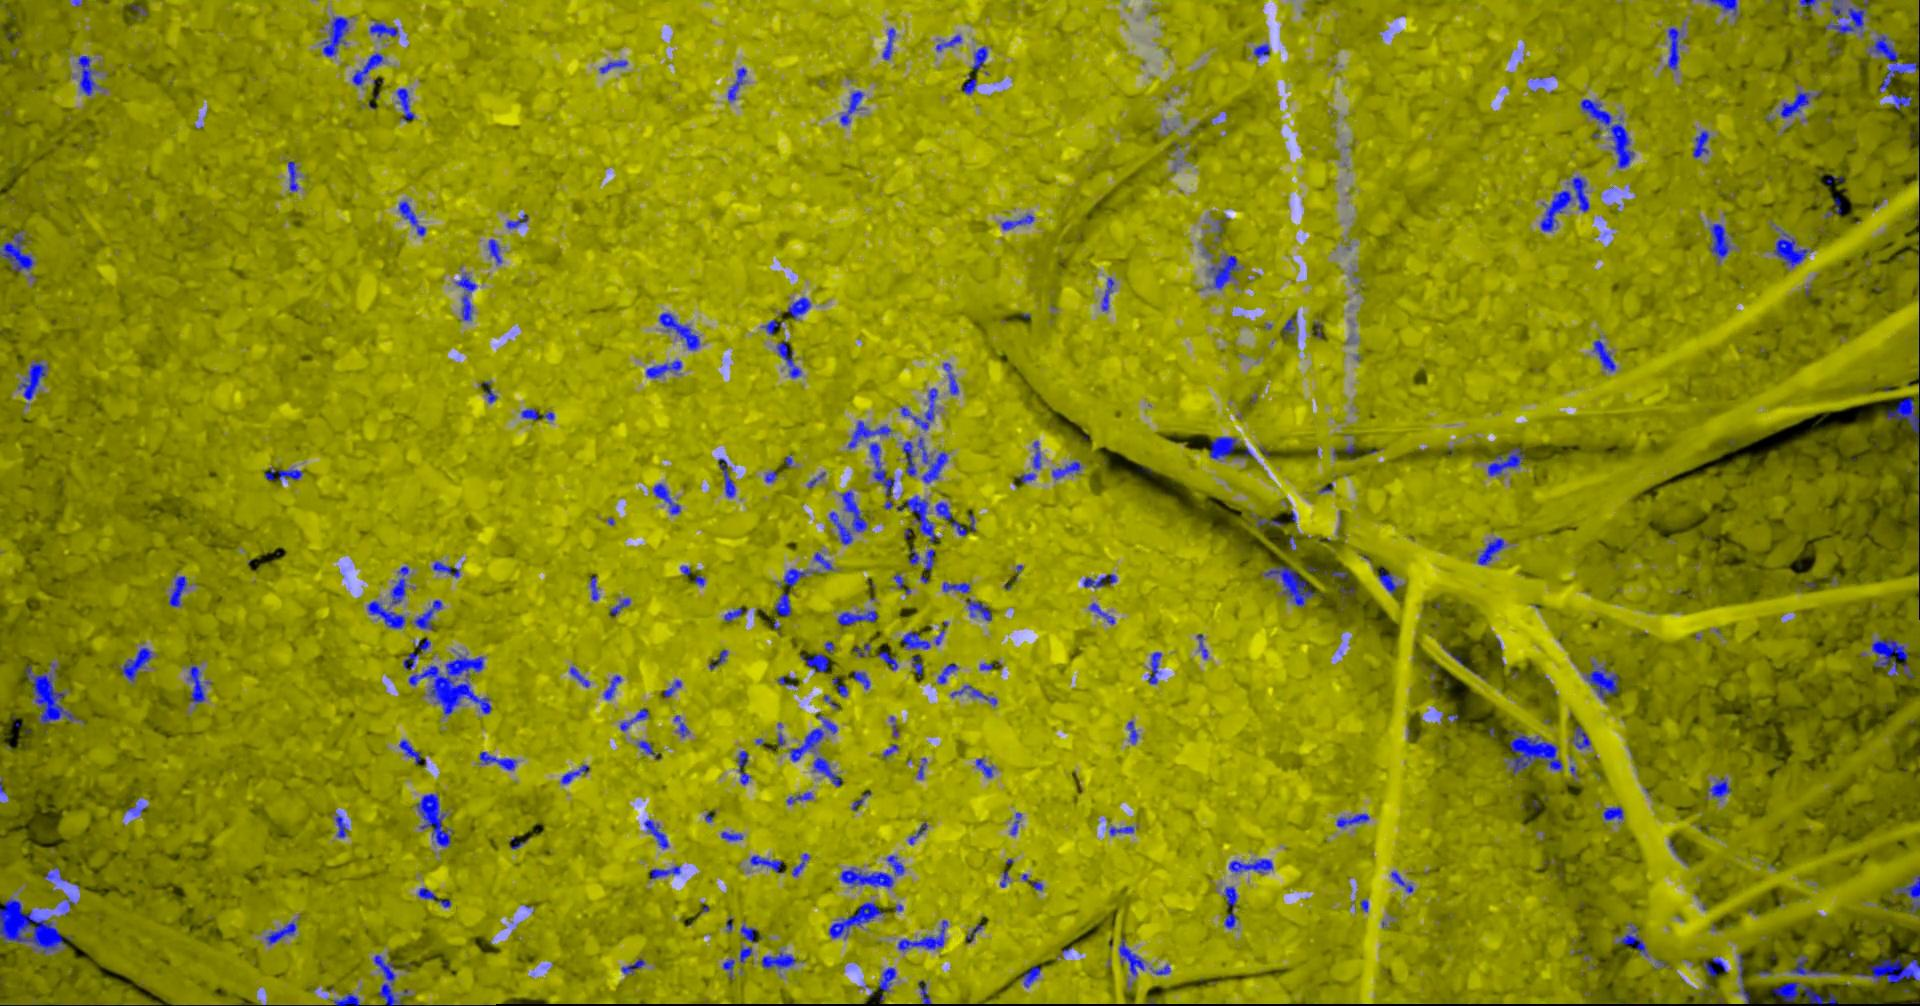ant: (1580, 98, 1634, 168), (1870, 34, 1919, 91), (1539, 177, 1589, 231), (789, 713, 837, 761), (1263, 565, 1314, 606), (828, 901, 883, 937), (829, 490, 866, 544), (417, 793, 452, 846), (897, 495, 936, 542), (1870, 636, 1912, 678), (1771, 981, 1839, 1005), (897, 920, 947, 951), (658, 312, 698, 351), (900, 387, 937, 429), (373, 954, 403, 1005), (1773, 231, 1812, 267), (1823, 0, 1864, 34), (1884, 392, 1919, 433), (917, 437, 947, 481), (869, 442, 894, 495), (1868, 956, 1919, 983), (0, 230, 33, 271), (1586, 661, 1619, 700), (847, 420, 891, 448), (17, 359, 47, 399), (1209, 255, 1242, 290), (119, 647, 151, 682), (350, 52, 383, 85), (935, 500, 966, 535), (1015, 441, 1041, 481), (839, 868, 893, 888), (367, 600, 405, 627), (1617, 922, 1647, 956), (1487, 447, 1524, 475), (455, 273, 476, 320), (323, 17, 348, 56), (397, 199, 425, 235), (1789, 953, 1835, 974), (1117, 937, 1143, 976), (651, 481, 681, 514), (776, 340, 801, 377), (76, 55, 99, 95), (950, 685, 996, 705), (1896, 873, 1919, 913), (813, 756, 842, 786), (839, 90, 863, 124), (1708, 224, 1730, 260), (1780, 90, 1810, 117), (1476, 537, 1505, 564), (414, 600, 441, 629), (397, 739, 425, 766), (643, 819, 668, 848), (783, 568, 818, 589), (1592, 339, 1615, 371), (479, 751, 516, 770), (187, 666, 204, 705), (1208, 436, 1238, 459), (618, 708, 649, 730), (265, 921, 296, 944), (645, 359, 681, 379), (717, 459, 735, 497), (390, 567, 408, 605), (1228, 857, 1272, 873), (417, 887, 450, 907), (759, 951, 795, 969), (837, 610, 877, 625), (728, 67, 745, 102), (396, 86, 414, 121), (1377, 568, 1399, 594), (1223, 885, 1237, 929), (877, 967, 895, 1000), (1667, 27, 1681, 69), (560, 763, 589, 782), (786, 296, 810, 319), (966, 597, 990, 620), (749, 855, 782, 871), (168, 575, 185, 606), (1738, 953, 1749, 1005), (1001, 213, 1032, 230), (799, 653, 828, 671), (1691, 130, 1709, 158), (902, 441, 916, 476), (1051, 461, 1079, 479), (902, 631, 930, 649), (1390, 870, 1413, 892), (1090, 602, 1114, 622), (942, 362, 957, 394), (1082, 573, 1116, 587), (737, 749, 750, 784), (1703, 956, 1726, 977), (370, 20, 397, 37), (1336, 813, 1369, 827), (602, 674, 621, 699), (1707, 0, 1736, 15), (935, 34, 961, 51), (432, 560, 458, 577), (936, 663, 957, 683), (569, 666, 589, 687), (907, 822, 927, 843), (264, 469, 302, 480), (1572, 725, 1590, 749), (1707, 779, 1731, 796), (521, 408, 554, 420), (1823, 196, 1843, 217), (791, 854, 809, 876), (883, 27, 895, 58), (1148, 652, 1161, 683), (775, 592, 791, 616), (1101, 277, 1112, 311), (709, 649, 728, 669), (650, 865, 681, 878), (1890, 93, 1911, 111), (1021, 873, 1043, 890), (1022, 965, 1040, 987), (621, 958, 644, 974), (1281, 312, 1297, 337), (44, 866, 69, 882), (877, 650, 897, 669), (813, 553, 833, 570), (886, 855, 904, 875), (599, 60, 627, 72), (488, 239, 502, 264), (971, 46, 987, 69), (610, 598, 629, 616), (830, 677, 848, 696), (662, 680, 681, 697), (975, 758, 993, 777), (965, 923, 983, 942), (334, 813, 348, 837), (637, 741, 658, 757), (505, 213, 528, 227), (331, 993, 359, 1005), (739, 923, 756, 942), (287, 160, 297, 191), (923, 549, 935, 575), (483, 380, 497, 401), (852, 671, 869, 688), (762, 319, 781, 334), (1196, 634, 1208, 659), (910, 655, 922, 681), (786, 791, 811, 803), (1603, 807, 1623, 821), (918, 981, 930, 1005), (942, 582, 969, 592), (403, 652, 418, 669), (963, 74, 977, 93), (1335, 586, 1354, 600), (723, 607, 742, 621), (1126, 720, 1138, 743), (1010, 812, 1021, 835), (1255, 517, 1283, 526), (723, 959, 734, 978), (1323, 570, 1347, 579), (1109, 826, 1133, 835), (1253, 43, 1269, 57), (852, 643, 869, 655), (908, 547, 919, 565), (417, 638, 430, 652), (720, 831, 742, 840), (590, 575, 598, 600), (677, 721, 690, 735), (739, 946, 750, 962), (1798, 0, 1817, 8)
